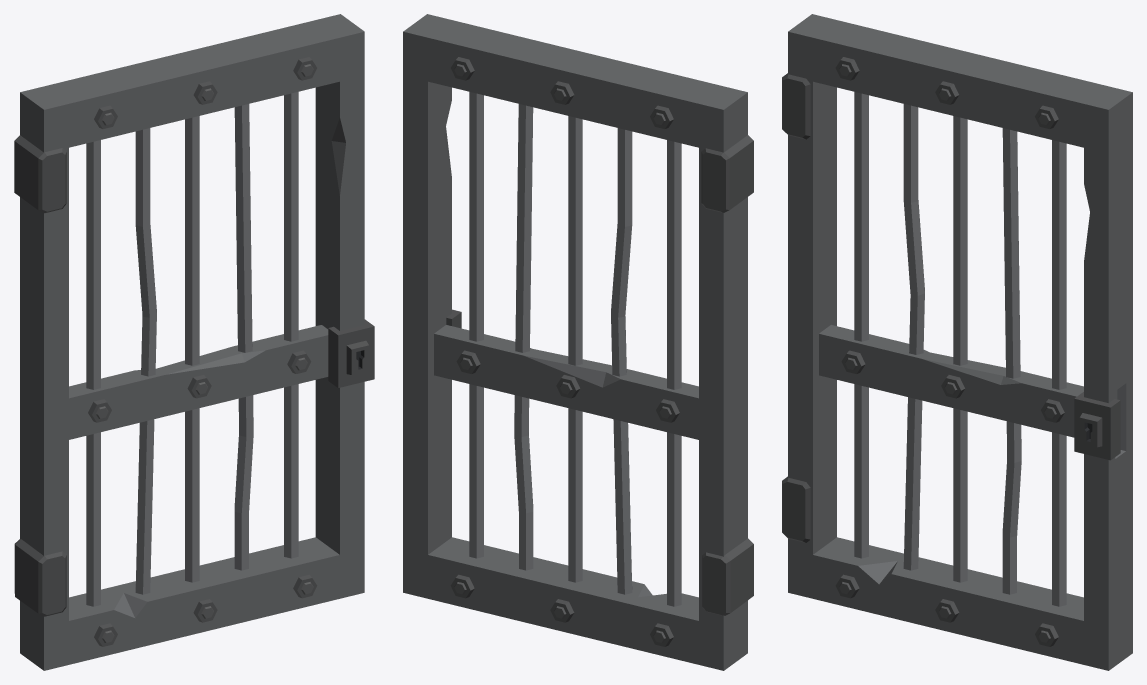
Rendered from SM_Env_Door_Bars_01.FBX.
The picture shows the model from 3 angles, left to right: view 1: azimuth 30°, elevation 25°; view 2: azimuth 150°, elevation 25°; view 3: azimuth 330°, elevation 25°; orthographic projection.
Parts seen in each view (by area): view 1: SM_Env_Door_Bars_01; view 2: SM_Env_Door_Bars_01; view 3: SM_Env_Door_Bars_01.
Boxes of the visible parts, box(x1,y1,x2,y2) form: SM_Env_Door_Bars_01: box(14, 14, 374, 670); SM_Env_Door_Bars_01: box(403, 14, 753, 670); SM_Env_Door_Bars_01: box(782, 14, 1132, 670).
Size of what is drawn, in the model's own units: 135 by 25.42 by 217.
